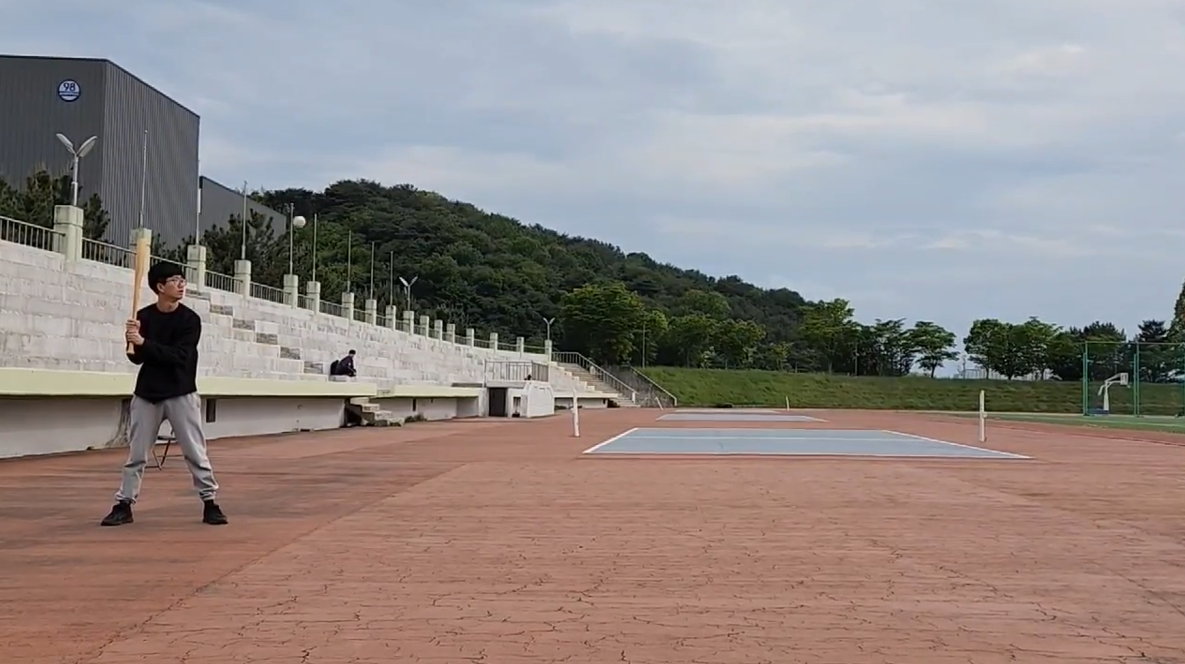ball: (292, 214, 305, 227)
